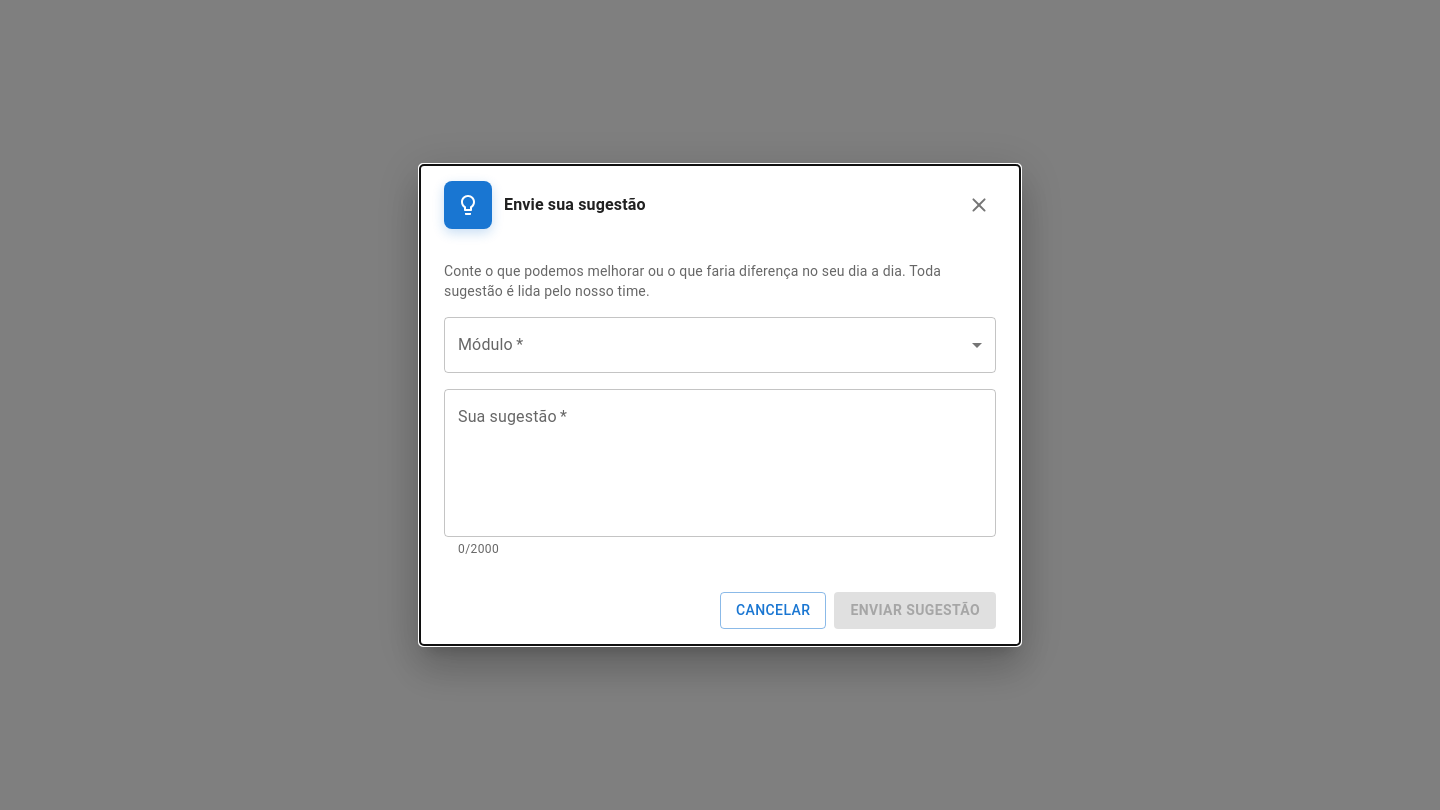
Test: SugestaoModal › lista os módulos do menu lateral e a opção Outros
Click the dropdown named "módulo" at (720, 345), box [444,317,996,373]
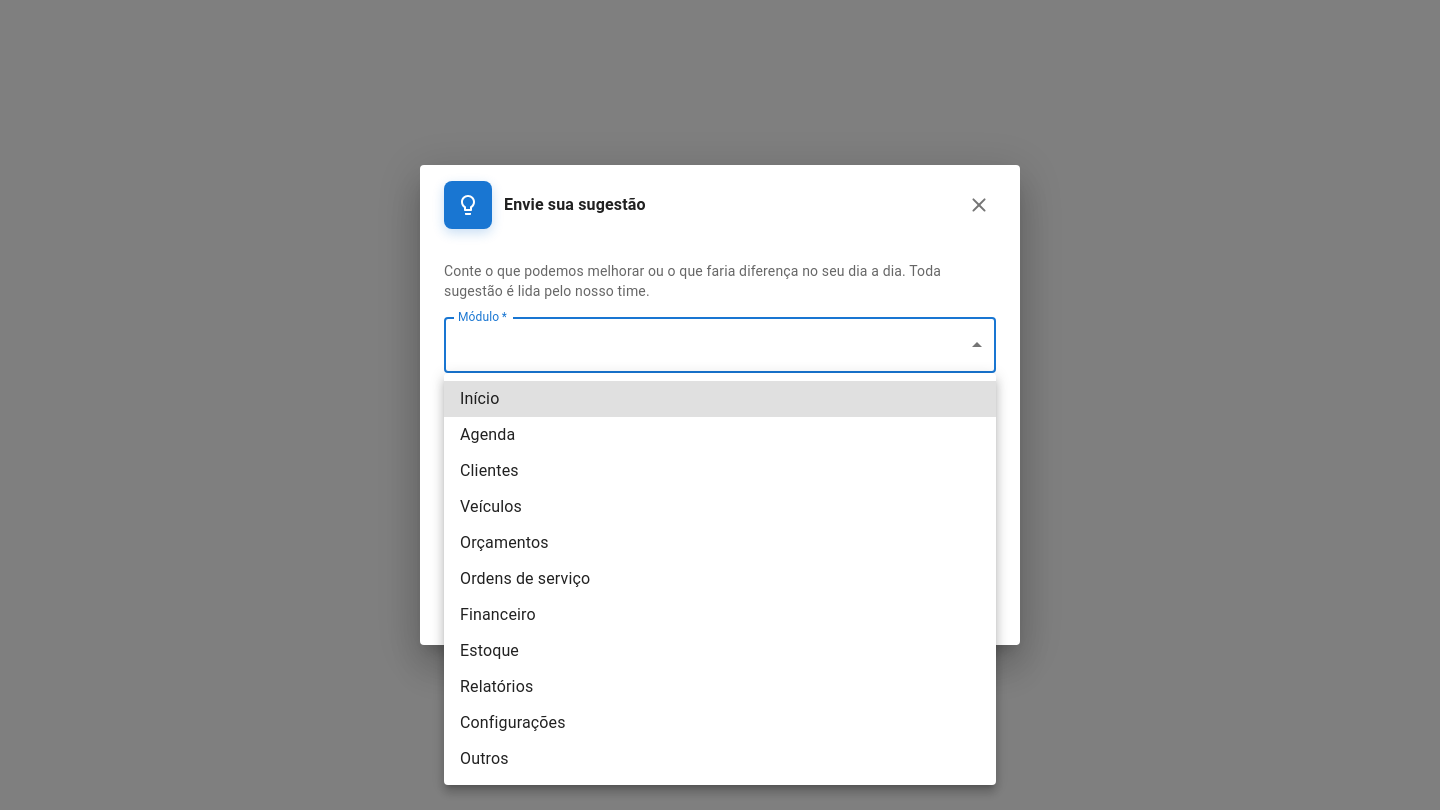
Check: the option "Outros" is shown, box [460,749,509,768]
